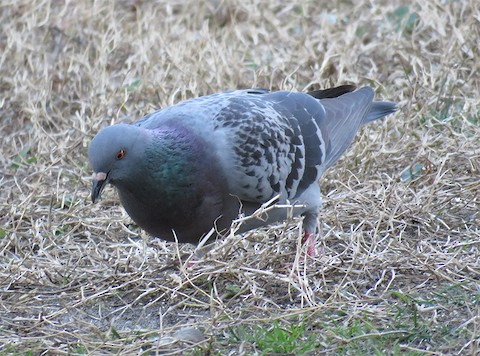pigeon: (85, 78, 399, 290)
